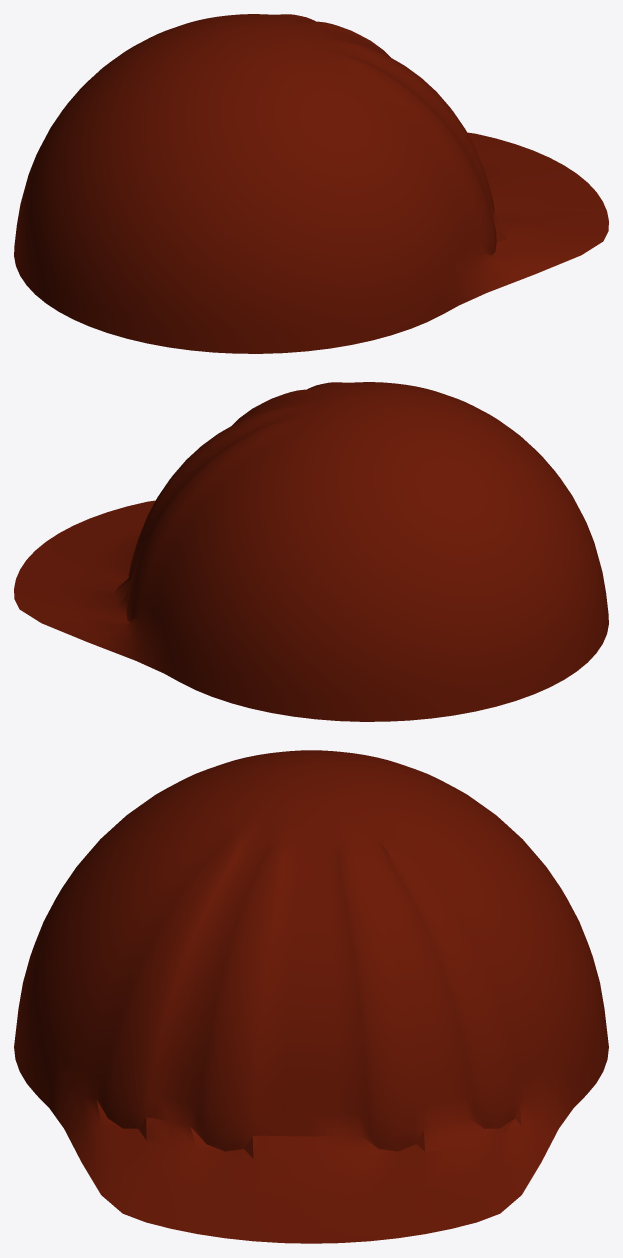
The model's file is liteo_face_model_1.gltf.
3 views of the same model, one above another, from view 1: azimuth 30°, elevation 25°; view 2: azimuth 150°, elevation 25°; view 3: azimuth 270°, elevation 25° (orthographic). The views are drawn at different scales.
Visible parts, largest first — view 1: tokar_face_model_1; view 2: tokar_face_model_1; view 3: tokar_face_model_1.
Boxes of the visible parts, x1,y1,x2,y2 form: tokar_face_model_1: [14, 14, 608, 353]; tokar_face_model_1: [14, 382, 608, 721]; tokar_face_model_1: [14, 750, 608, 1243].
Size of the model in its own units: 2.55 by 0.9976 by 1.99.
